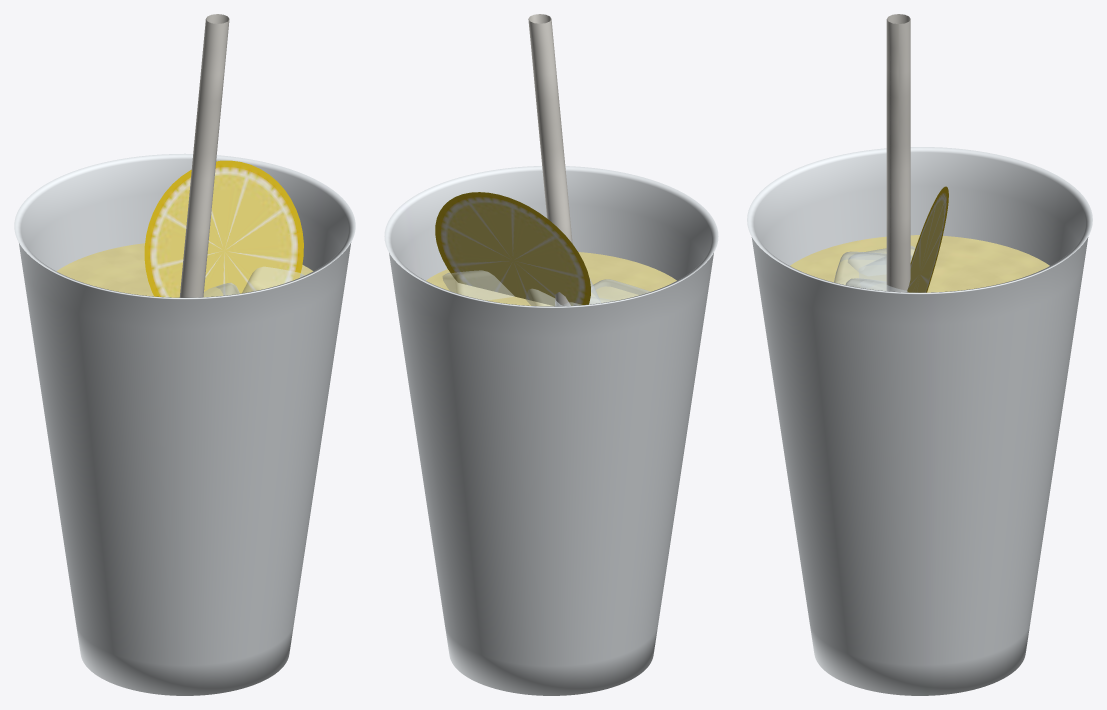
File: lemonade.glb
3 views of the same model, side by side, from view 1: azimuth 30°, elevation 25°; view 2: azimuth 150°, elevation 25°; view 3: azimuth 270°, elevation 25° (orthographic). The views are drawn at different scales.
Visible parts, largest first — view 1: clear, satin, gloss, ice; view 2: clear, satin, gloss, ice; view 3: clear, satin, gloss, ice.
Boxes of the visible parts, x1,y1,x2,y2 form: clear: [14, 153, 355, 695]; satin: [144, 14, 303, 297]; gloss: [56, 243, 313, 296]; ice: [204, 267, 304, 296]; clear: [384, 166, 718, 695]; satin: [435, 14, 590, 306]; gloss: [426, 252, 676, 306]; ice: [442, 270, 650, 306]; clear: [747, 147, 1092, 695]; satin: [886, 14, 948, 292]; gloss: [790, 235, 1049, 292]; ice: [834, 245, 915, 291].
Bounding box in the file's own units: 0.098 × 0.201 × 0.098.
Materials: 4 (4 with a texture image).
